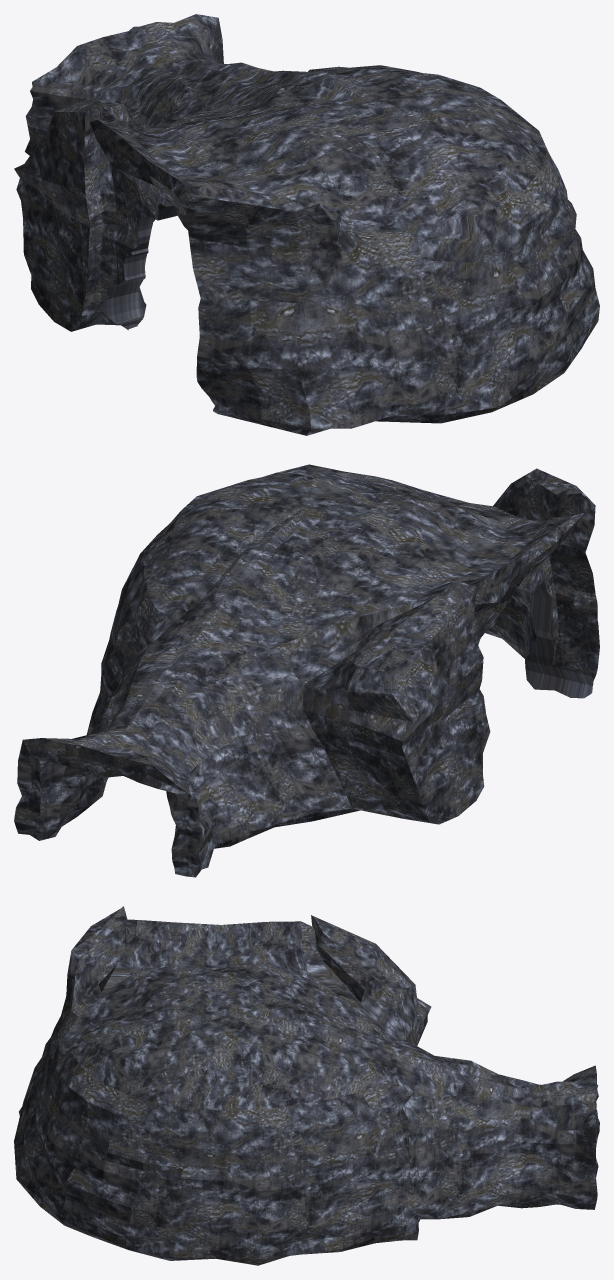
The model's file is cuevadown.fbx.
3 views of the same model, one above another, from view 1: azimuth 30°, elevation 25°; view 2: azimuth 150°, elevation 25°; view 3: azimuth 270°, elevation 25° (orthographic). The views are drawn at different scales.
Visible parts, largest first — view 1: cuevadown; view 2: cuevadown; view 3: cuevadown.
Part boxes in pixels (box(x1,y1,x2,y2)): cuevadown: box(14, 14, 599, 435); cuevadown: box(14, 464, 599, 877); cuevadown: box(14, 906, 599, 1265).
Size of the model in its own units: 2713 by 1490 by 3951.
Materials: 1 (1 with a texture image).
